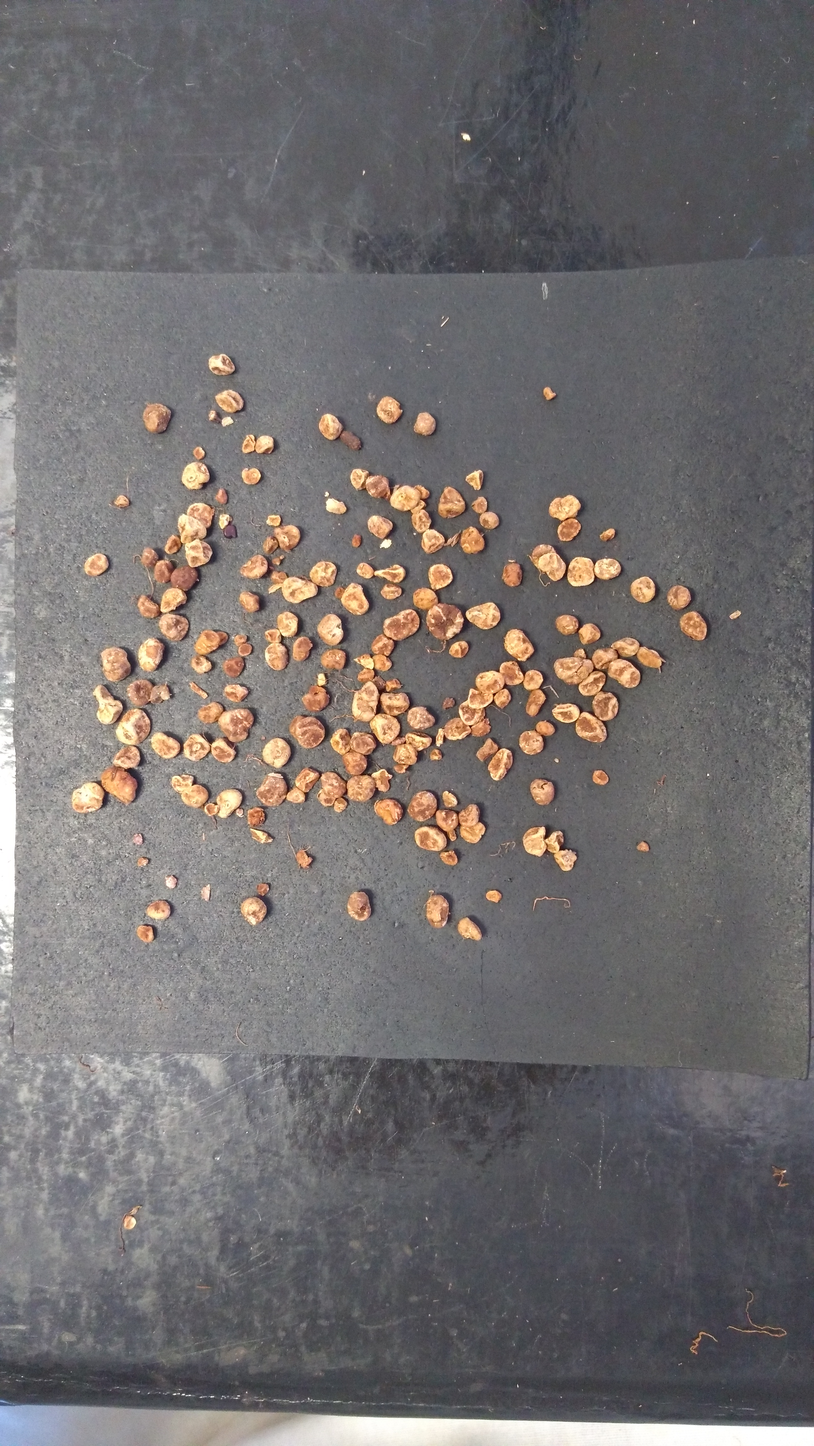nodule: (424, 602, 464, 641), (100, 766, 138, 805), (115, 708, 151, 745), (218, 708, 254, 743), (351, 681, 380, 723), (382, 609, 421, 640), (93, 685, 123, 725), (254, 772, 288, 806), (100, 647, 131, 682), (293, 716, 326, 748), (369, 712, 401, 745), (503, 628, 534, 662), (406, 790, 438, 822), (575, 711, 607, 743), (340, 582, 370, 616), (465, 602, 501, 630), (281, 576, 318, 603), (436, 486, 466, 519), (71, 782, 104, 812), (607, 659, 641, 688), (137, 637, 165, 672), (159, 612, 190, 642), (262, 737, 292, 768), (142, 402, 171, 433), (176, 514, 207, 543), (566, 556, 595, 587), (679, 611, 708, 642), (150, 731, 180, 760), (537, 552, 567, 581), (390, 485, 421, 513), (317, 613, 344, 645), (345, 775, 377, 802), (414, 825, 447, 851), (487, 748, 513, 781), (181, 461, 210, 490), (374, 798, 404, 826), (216, 788, 243, 819), (425, 895, 449, 929), (182, 733, 210, 762), (592, 691, 620, 720), (375, 395, 402, 425), (185, 539, 213, 567), (427, 563, 454, 592), (240, 896, 267, 925), (529, 778, 556, 807), (214, 389, 245, 414), (522, 826, 547, 857), (273, 524, 301, 551), (170, 565, 198, 592), (309, 561, 337, 588), (320, 770, 347, 798), (629, 575, 656, 603), (578, 670, 606, 697), (548, 496, 577, 522), (406, 705, 436, 730), (346, 890, 371, 920), (474, 670, 505, 694), (186, 502, 213, 529), (127, 679, 154, 706), (210, 736, 237, 763), (318, 413, 344, 441), (194, 628, 220, 656), (531, 542, 557, 570), (458, 699, 486, 725), (264, 642, 289, 671), (112, 745, 142, 769), (380, 692, 410, 716), (294, 766, 320, 793), (444, 716, 471, 742), (240, 554, 268, 579), (180, 783, 208, 808), (160, 587, 187, 612), (412, 586, 439, 611), (350, 731, 378, 755), (84, 552, 110, 577), (367, 514, 393, 539), (666, 585, 692, 610), (518, 730, 544, 755), (460, 526, 484, 553), (553, 656, 581, 679), (375, 564, 407, 584), (593, 558, 622, 580), (610, 637, 640, 658), (365, 474, 390, 499), (499, 661, 524, 686), (421, 528, 445, 554), (208, 353, 235, 376), (276, 611, 299, 638), (197, 701, 224, 724), (391, 743, 418, 766), (459, 822, 486, 845), (413, 411, 437, 436), (342, 751, 367, 775), (457, 917, 482, 941), (319, 648, 346, 670), (635, 646, 662, 668), (301, 692, 330, 712), (137, 595, 161, 619), (370, 633, 395, 656), (370, 768, 393, 793), (592, 648, 617, 671), (330, 728, 351, 755), (525, 689, 546, 716), (467, 688, 494, 709), (552, 703, 580, 723), (557, 518, 581, 541), (475, 738, 498, 762), (554, 849, 578, 872), (292, 636, 313, 662), (405, 730, 432, 750), (222, 656, 245, 679), (558, 494, 581, 517), (410, 509, 432, 533), (435, 809, 459, 831), (555, 614, 579, 636), (577, 623, 601, 645), (153, 559, 174, 584), (145, 900, 171, 920), (458, 803, 480, 826), (170, 773, 194, 794), (502, 563, 523, 587), (238, 591, 260, 613), (468, 717, 491, 738), (543, 830, 564, 853), (349, 468, 370, 490), (224, 684, 249, 702), (254, 434, 275, 455), (523, 669, 543, 691), (340, 430, 361, 450), (246, 806, 266, 827), (140, 546, 159, 568), (190, 656, 212, 675), (150, 685, 170, 705), (289, 714, 305, 739), (465, 470, 484, 491), (478, 511, 499, 530), (576, 658, 595, 679), (371, 654, 393, 672), (493, 689, 512, 709), (380, 583, 402, 600), (324, 498, 347, 514), (136, 924, 155, 943), (317, 788, 336, 807), (449, 640, 468, 659), (241, 468, 262, 485), (164, 534, 181, 555), (285, 786, 306, 803), (354, 654, 375, 670), (356, 561, 374, 579), (441, 848, 459, 866), (262, 536, 279, 554), (263, 627, 281, 644), (269, 569, 288, 585), (356, 668, 375, 684), (536, 720, 555, 736), (562, 672, 583, 686), (592, 769, 609, 786), (442, 789, 458, 807), (471, 496, 487, 514), (242, 434, 256, 453), (410, 498, 426, 514), (385, 678, 401, 694), (414, 483, 429, 499), (332, 797, 347, 813), (485, 889, 502, 903), (238, 642, 253, 657), (215, 487, 228, 504), (203, 802, 220, 815), (123, 1215, 137, 1230), (316, 672, 330, 687), (266, 514, 282, 527), (542, 386, 556, 400), (115, 494, 130, 507), (215, 630, 228, 645), (164, 874, 177, 889), (600, 528, 615, 541), (393, 763, 410, 774), (234, 633, 247, 647), (442, 696, 455, 710), (256, 882, 269, 896), (296, 849, 309, 863), (636, 840, 650, 853), (218, 514, 230, 529), (390, 735, 407, 745), (208, 410, 221, 423), (193, 446, 205, 460), (573, 647, 587, 659), (430, 748, 443, 760), (220, 416, 234, 427), (351, 534, 362, 548), (132, 833, 144, 845), (301, 856, 313, 868), (334, 586, 345, 599), (447, 829, 457, 842), (137, 857, 149, 867), (271, 557, 281, 566), (236, 808, 244, 816)
